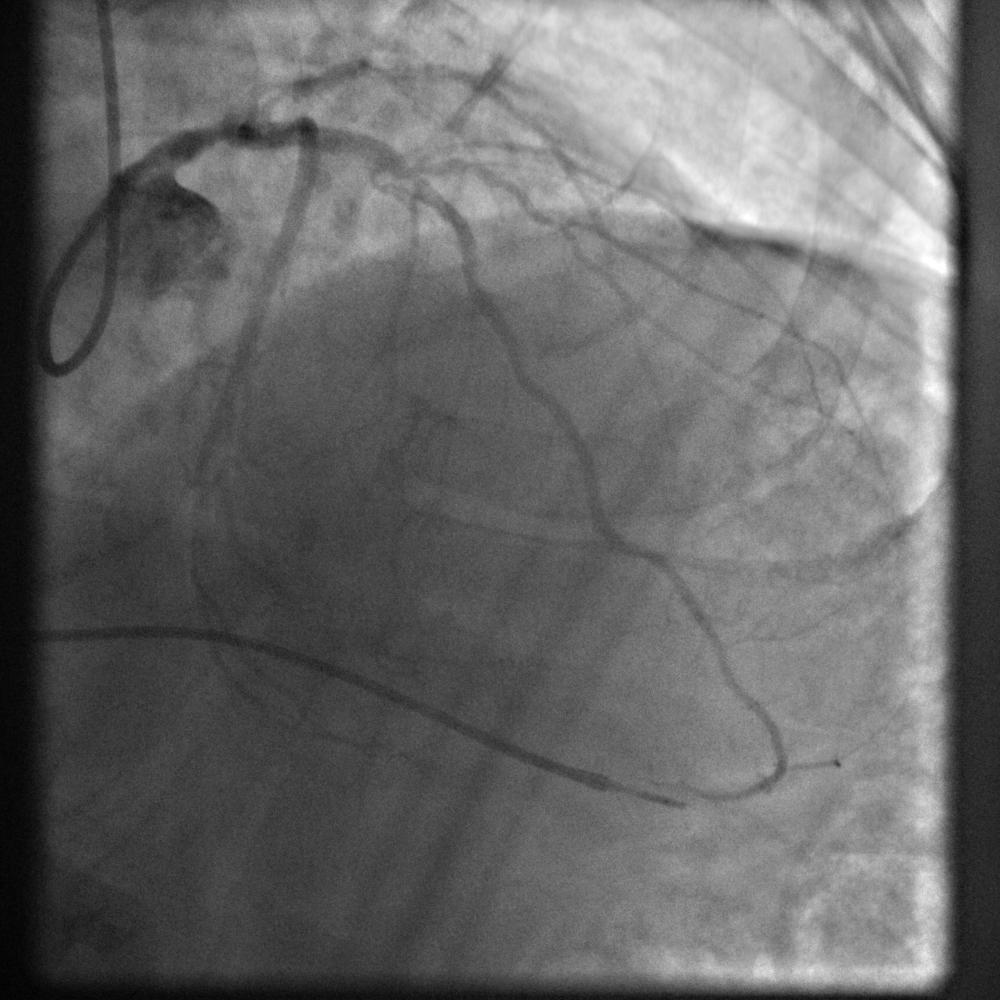Stenosis: (379, 148, 463, 195)
